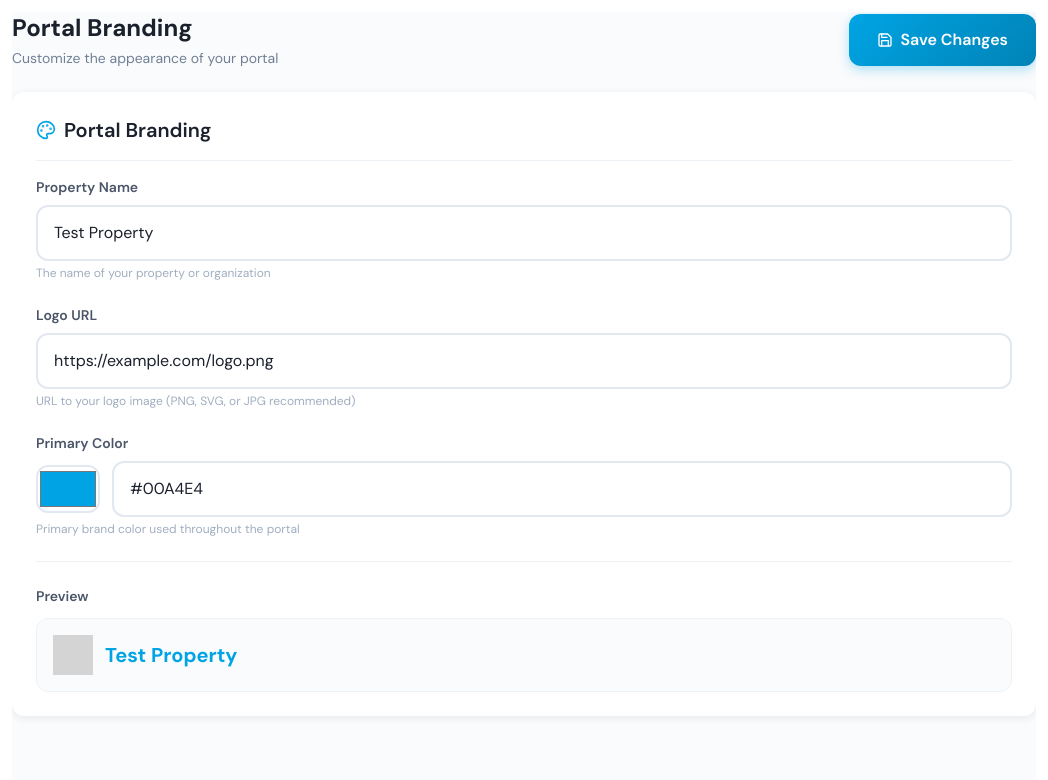
Test: Branding Settings Page › displays success notification after save
The width and height of the screenshot is (1048, 780).
Click the button "Save Changes": point(942, 40) [848, 14, 1036, 66]
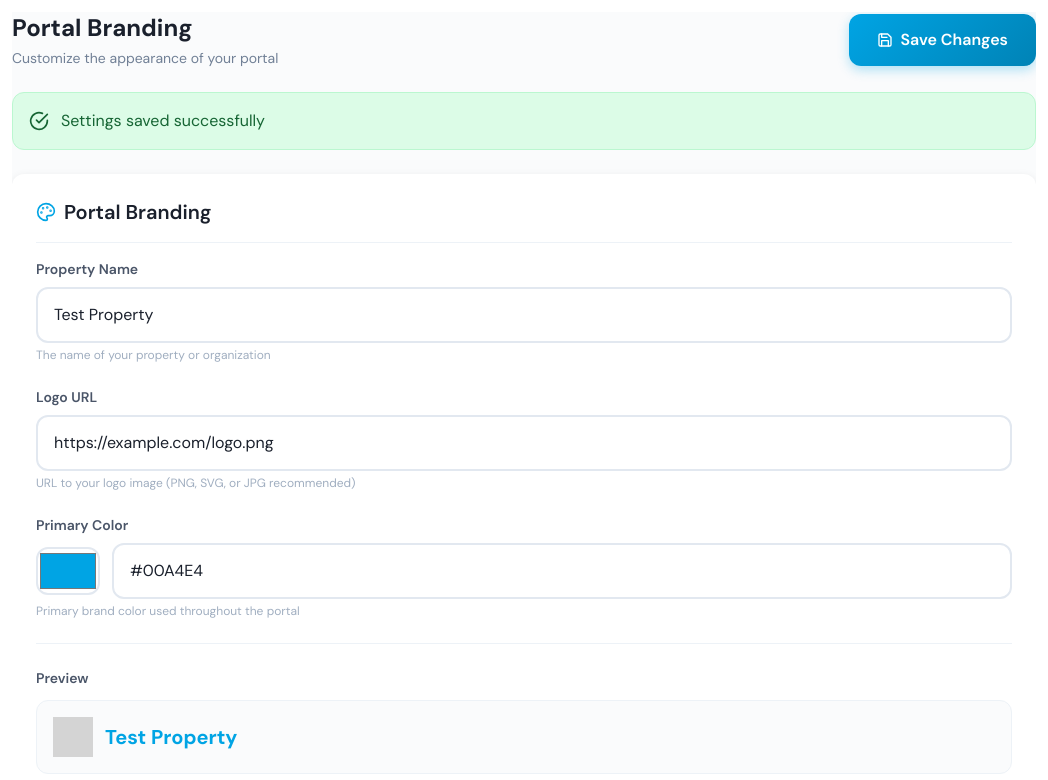
Expected: the text "Settings saved successfully" is shown, [12, 92, 1036, 150]
